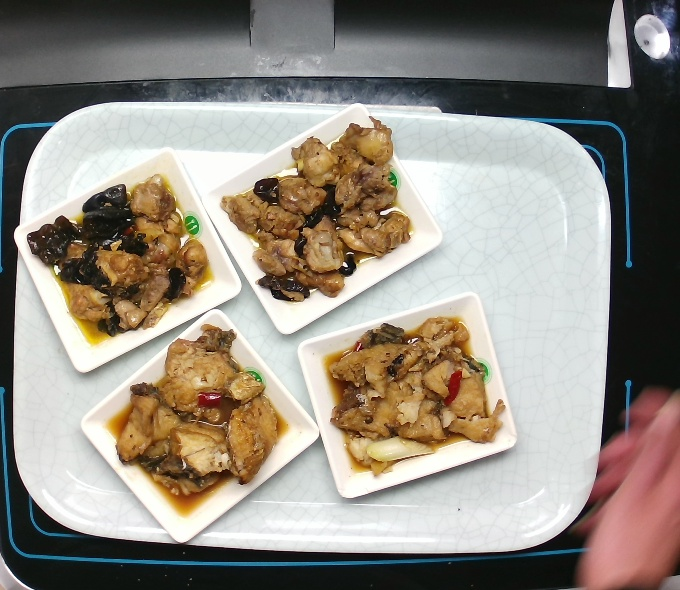wcq-MuErRouKuai: (233, 118, 417, 305), (28, 176, 220, 329)
wcq-YuKuai: (329, 321, 505, 462), (121, 332, 274, 491)
